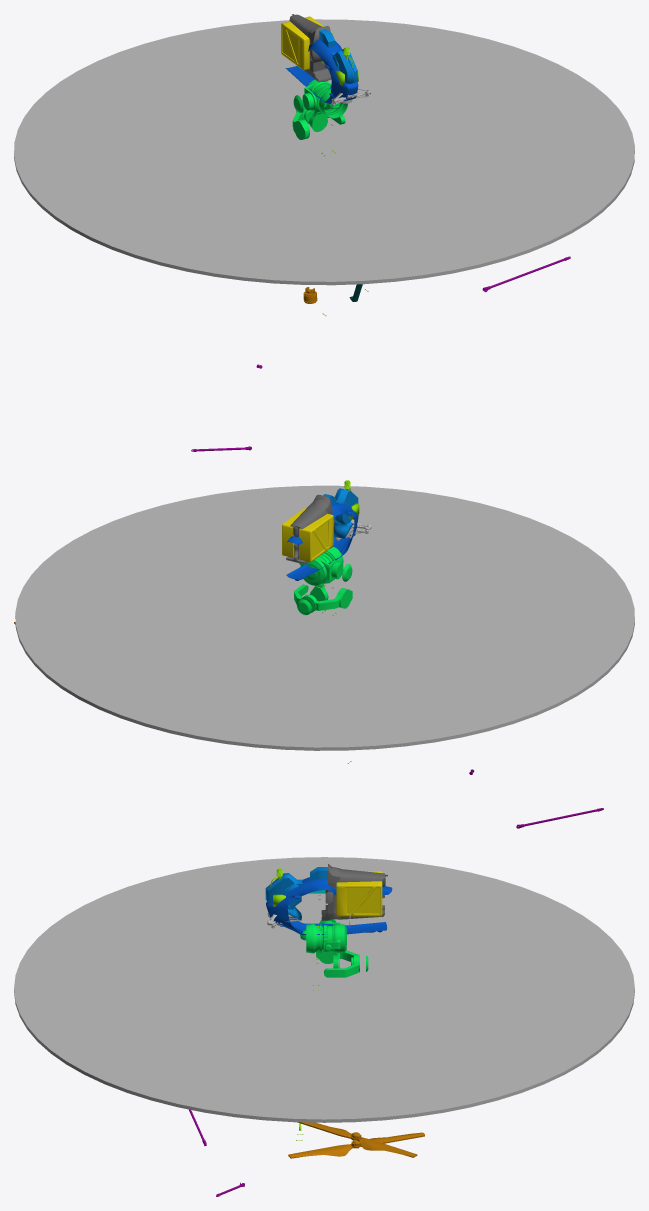
Rendered from FlyingDrone.glb.
The picture shows the model from 3 angles, top to bottom: view 1: azimuth 30°, elevation 25°; view 2: azimuth 150°, elevation 25°; view 3: azimuth 270°, elevation 25°; orthographic projection.
Parts seen in each view (by area): view 1: PISTE, f_low, e_low, j_low, a_low, h_low; view 2: PISTE, e_low, j_low, f_low, CAM_BACK, a_low, h_low; view 3: PISTE, f_low, e_low, a_low, j_low, h_low, PROPELLER3_low, PROPELLER2_low, CAM_BACK.
Part boxes in pixels (x1,y1,x2,y2): PISTE: [14, 19, 634, 285]; f_low: [285, 39, 358, 103]; e_low: [281, 16, 332, 70]; j_low: [293, 79, 347, 118]; a_low: [289, 14, 331, 82]; h_low: [319, 29, 357, 89]; PISTE: [15, 485, 634, 750]; e_low: [282, 508, 333, 561]; j_low: [299, 546, 352, 585]; f_low: [286, 502, 358, 580]; CAM_BACK: [294, 584, 352, 615]; a_low: [286, 494, 334, 564]; h_low: [323, 488, 358, 538]; PISTE: [14, 857, 634, 1122]; f_low: [266, 877, 392, 935]; e_low: [336, 871, 382, 916]; a_low: [321, 864, 387, 920]; j_low: [306, 919, 346, 954]; h_low: [265, 867, 327, 920]; PROPELLER3_low: [288, 1132, 424, 1158]; PROPELLER2_low: [297, 1122, 417, 1157]; CAM_BACK: [316, 950, 368, 977].
Size of the model in its own units: 3.45 by 2.12 by 3.45.
